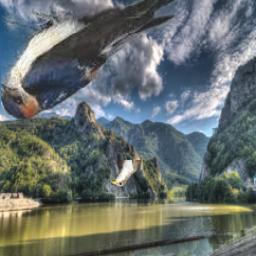Cuckoo: (111, 160, 141, 186)
Swallow: (1, 0, 200, 120)
